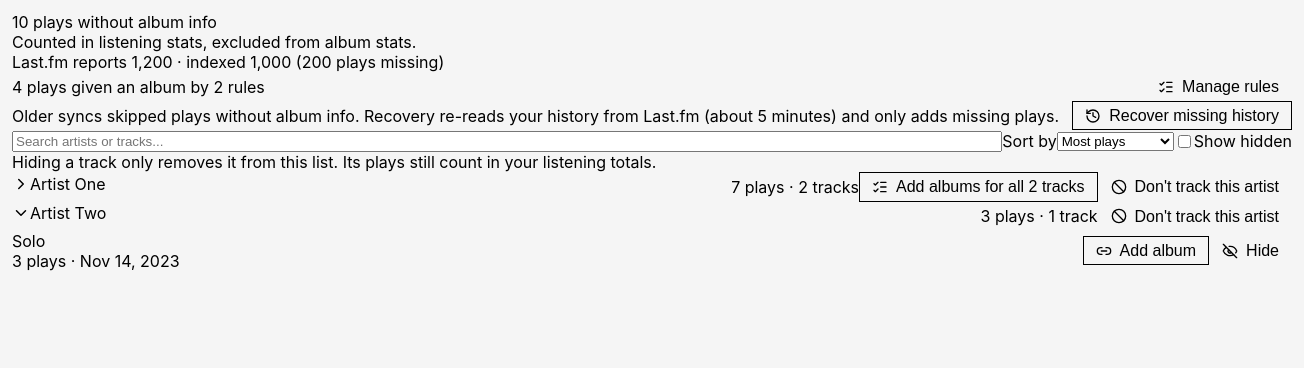
Test case: UnresolvedHistoryTab › shows a folded artist’s tracks while searching
expect the text "Track A" is not shown: met
Type "track" into the search field named "Search plays without album info" at (507, 142), box [12,131,1002,152]
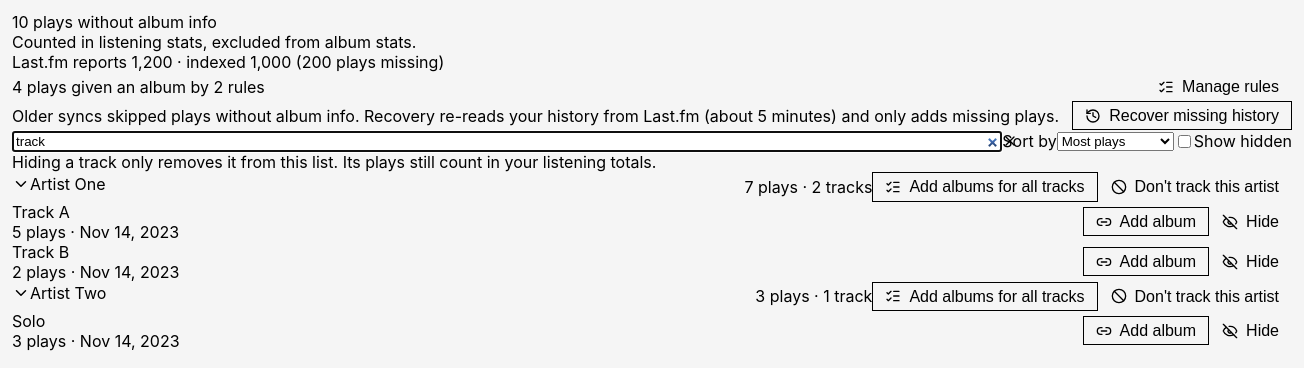
expect the text "Track A" is shown: met, box [12,202,70,222]
expect the button "Artist One" is disabled: met, box [12,174,106,194]
